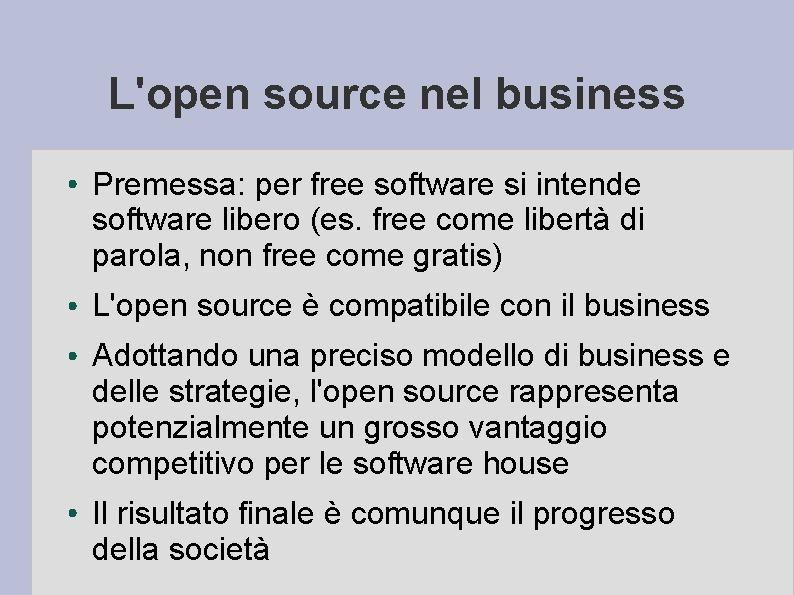paragraph: (57, 162, 751, 587)
title: (102, 60, 696, 134)
